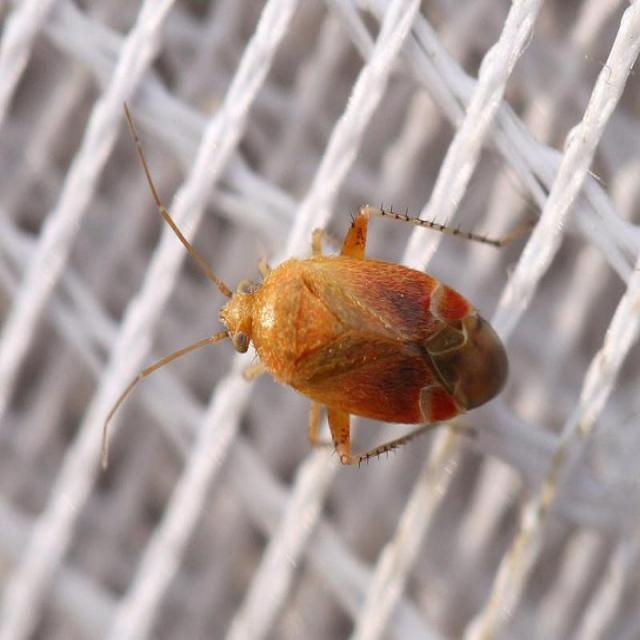Miridae-Adult-: (82, 94, 550, 487)
